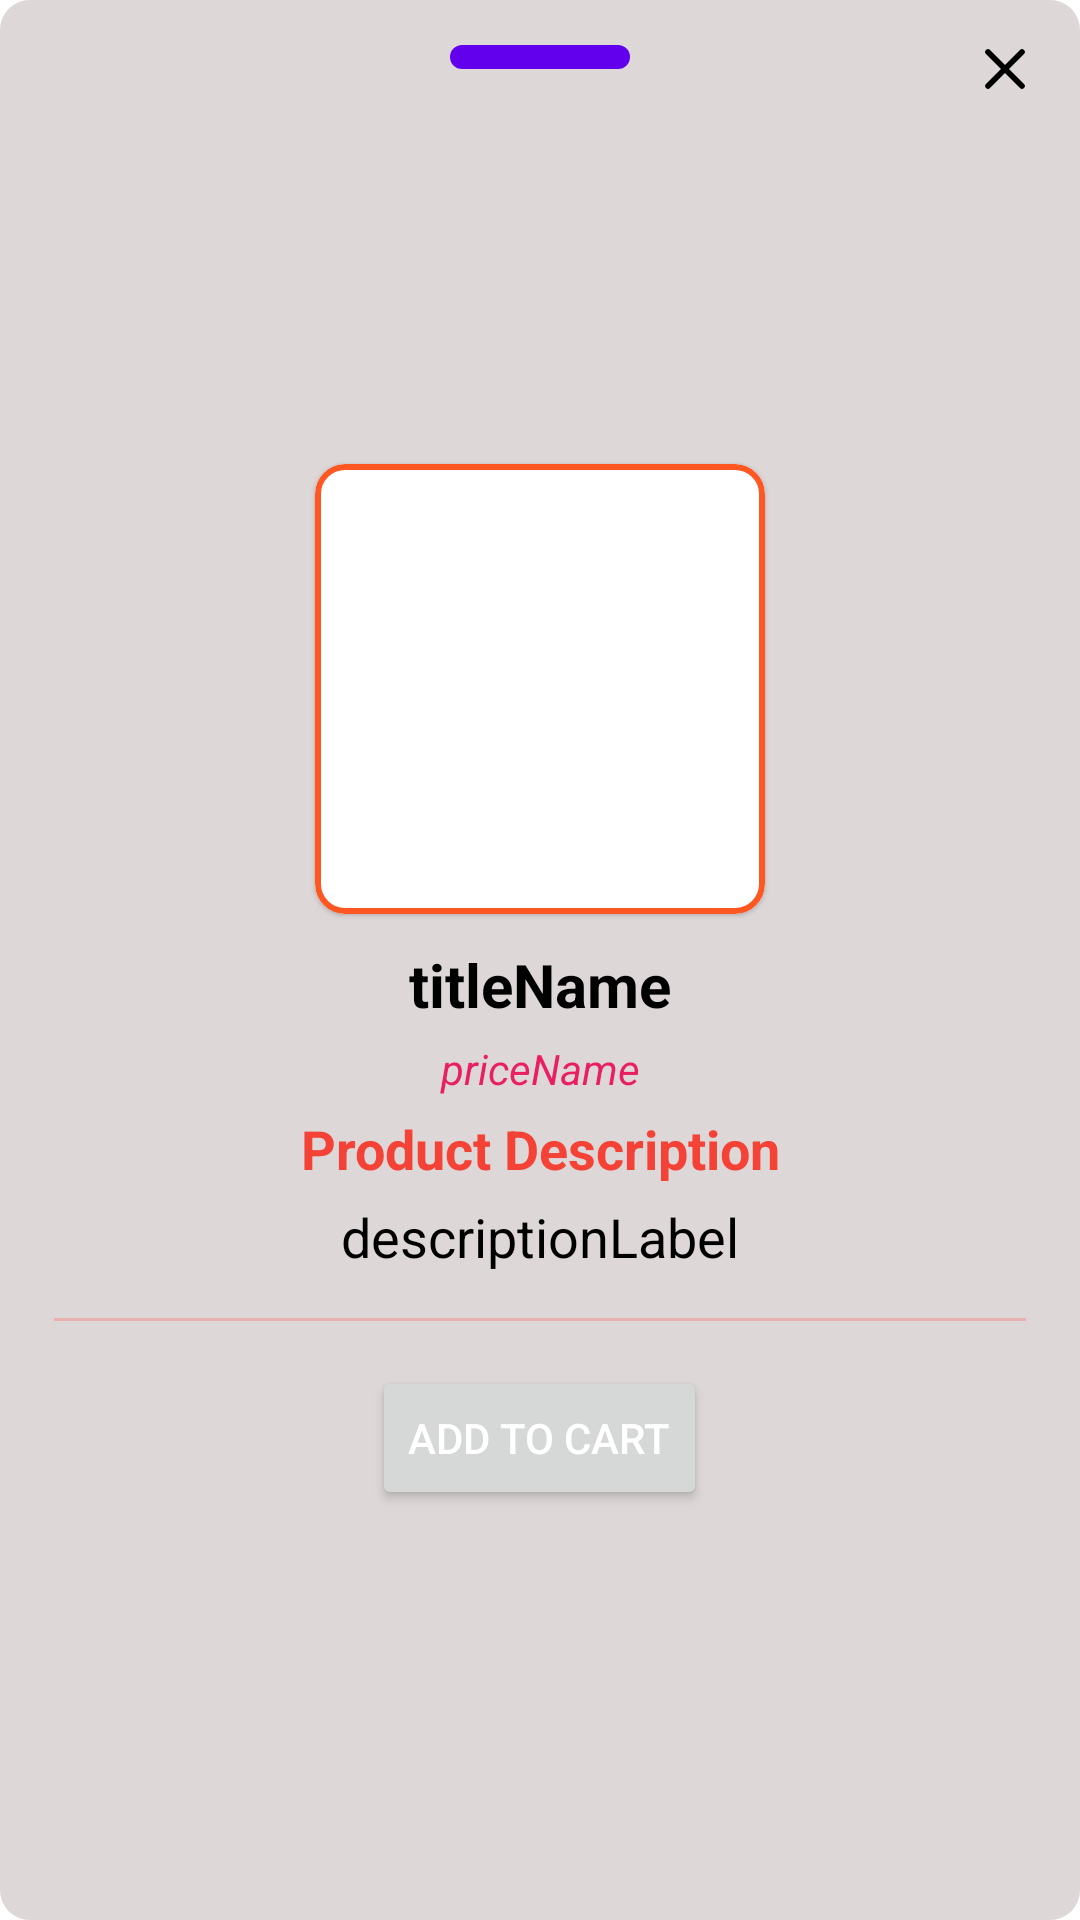

Where icons sit on this 1080 x 1920 app screen, as (x1, y1, x2, y2):
close: (985, 49, 1025, 89)
